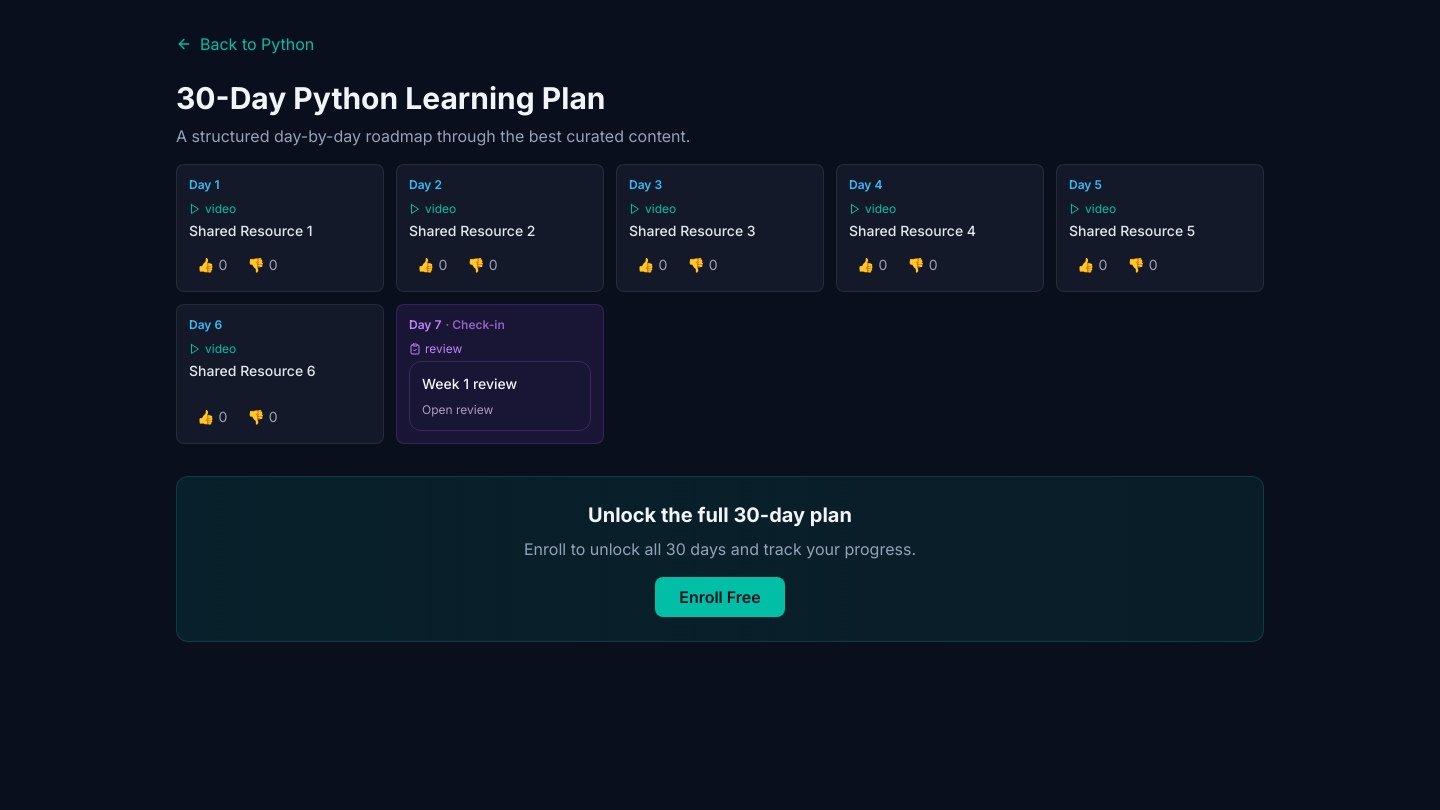
Test: LearningPlanPage › review day placeholders › opens review content in a modal with recall inputs instead of rendering below the grid
Click the button "Week 1 review Open review" at point(500, 396), box [409,361,591,431]
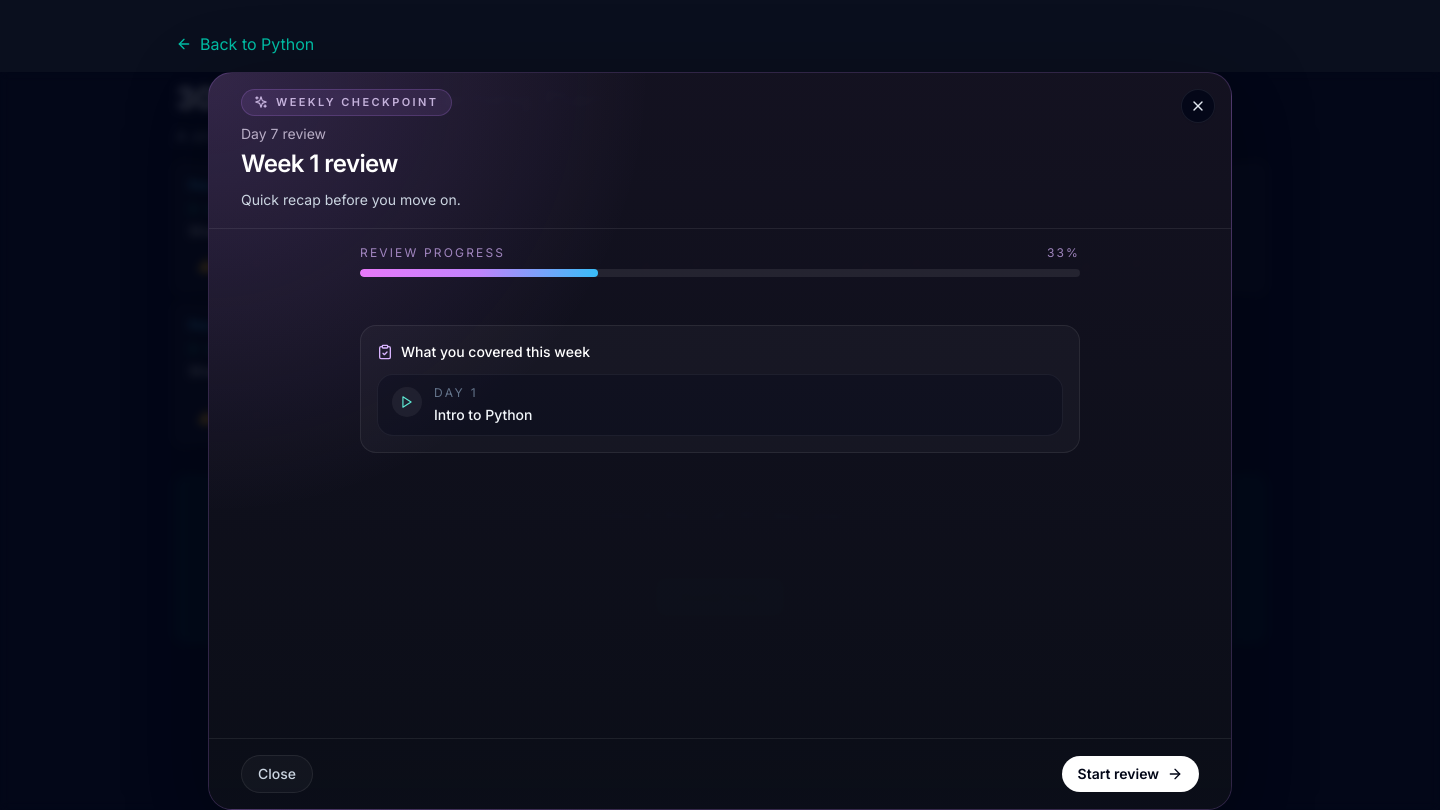
Expected: the text "Open review" is shown, [422,402,493,417]
Expected: the dialog "Day 7 review" is shown
Expected: the button "Start review" is shown
Click the button "Start review" at point(1130, 774), box [1062,756,1199,792]
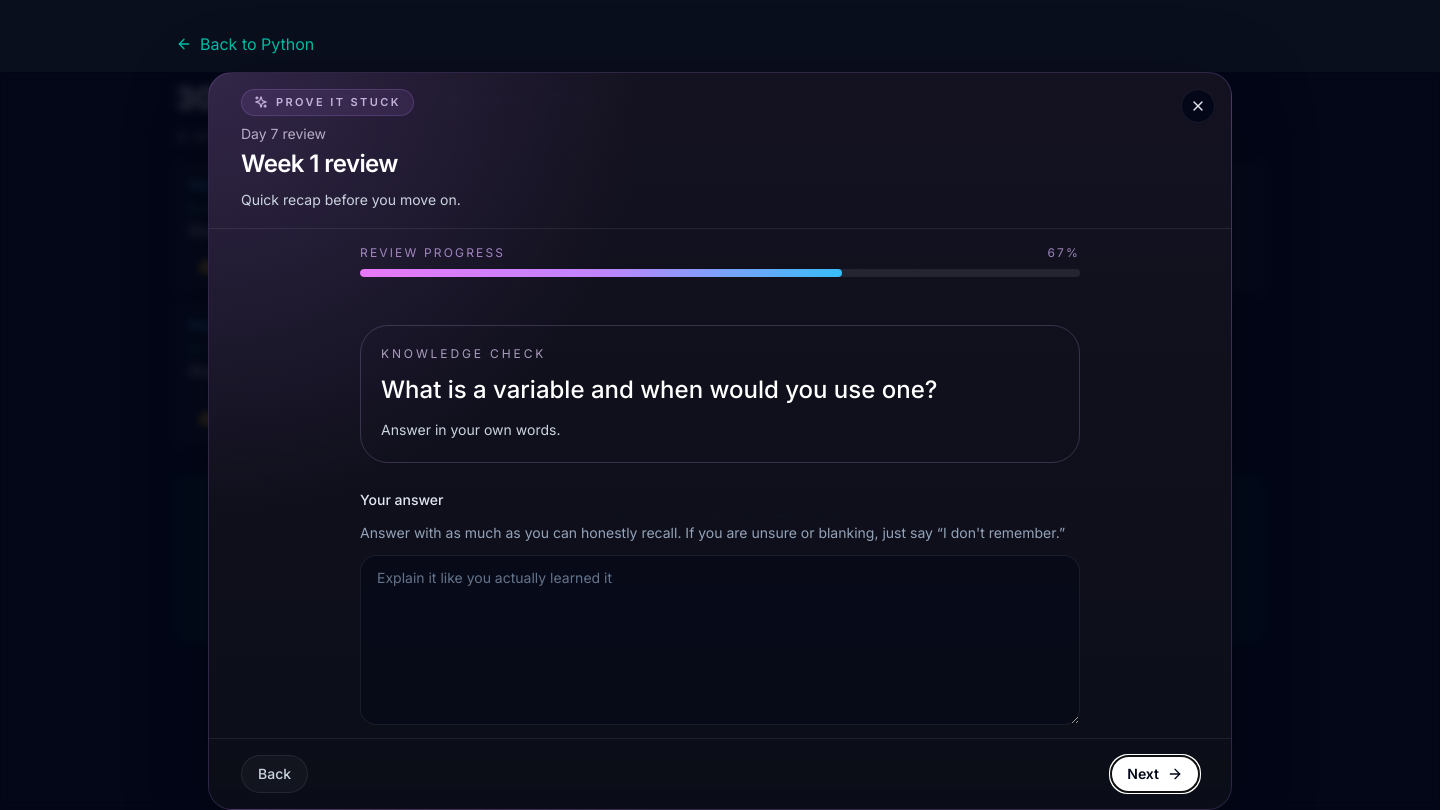
Expected: the text "What is a variable and when would you use one?" is shown, [381,374,937,404]
Expected: the text box labelled "Your answer" is shown, [360,554,1080,724]
